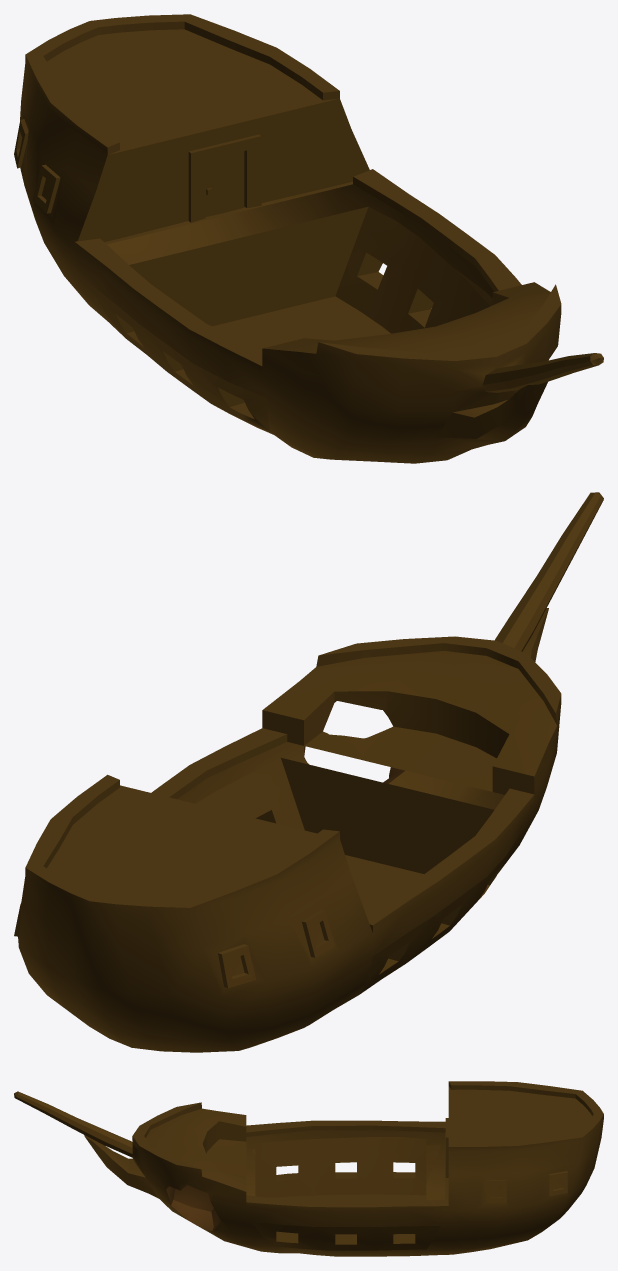
File: LeftBrokenShip.fbx
3 renders of one model, top to bottom at view 1: azimuth 30°, elevation 25°; view 2: azimuth 150°, elevation 25°; view 3: azimuth 270°, elevation 25°, orthographic. The views are drawn at different scales.
Visible parts, largest first — view 1: MainShipBody002; view 2: MainShipBody002; view 3: MainShipBody002.
Boxes of the visible parts, x1,y1,x2,y2 form: MainShipBody002: (14,14,603,463); MainShipBody002: (14,492,603,1052); MainShipBody002: (14,1081,603,1256).
Bounding box in the file's own units: 507 × 1461 × 381.
